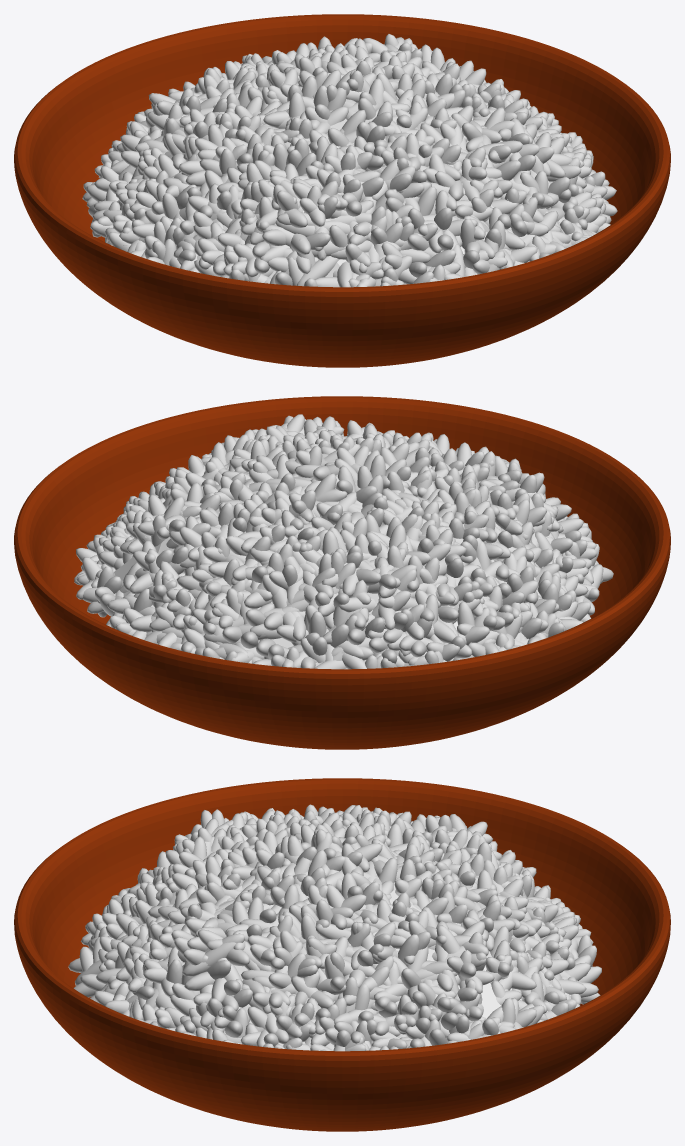
The model's file is food.fbx.
3 renders of one model, top to bottom at view 1: azimuth 30°, elevation 25°; view 2: azimuth 150°, elevation 25°; view 3: azimuth 270°, elevation 25°, orthographic.
Parts seen in each view (by area): view 1: Bowl; view 2: Bowl, Plane; view 3: Bowl, Plane.
Boxes of the visible parts, x1,y1,x2,y2 form: Bowl: [14, 14, 670, 367]; Bowl: [14, 396, 670, 749]; Plane: [114, 490, 494, 661]; Bowl: [14, 778, 670, 1131]; Plane: [234, 890, 522, 1023].
Size of the model in its own units: 58.19 by 24.97 by 58.19.
